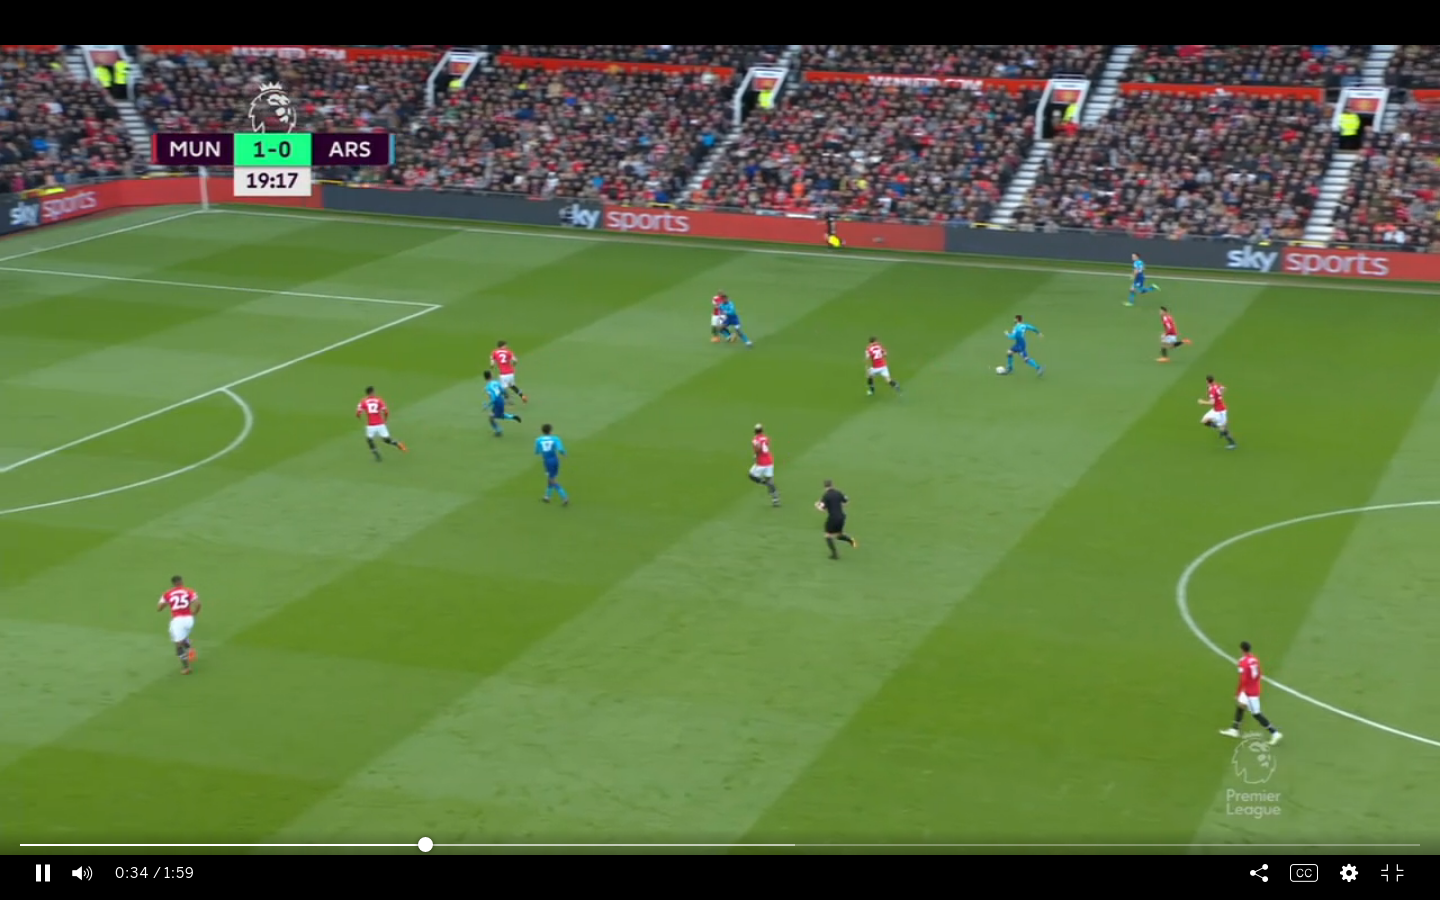referee: (810, 476, 861, 563)
soccer player: (1216, 634, 1288, 749), (153, 571, 210, 680), (353, 377, 410, 469), (999, 308, 1058, 386), (528, 423, 575, 509), (745, 419, 784, 522), (1193, 371, 1239, 457), (475, 368, 524, 445), (484, 340, 539, 408), (1122, 243, 1164, 309), (1152, 305, 1196, 366), (718, 291, 762, 351), (859, 331, 898, 397), (704, 288, 727, 346)
soccerball: (993, 359, 1012, 382)
